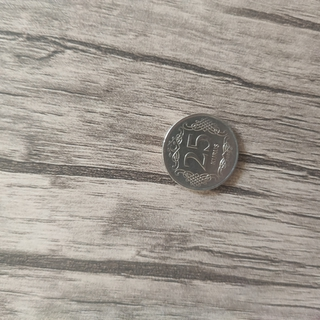25KURUS: (160, 111, 240, 192)
